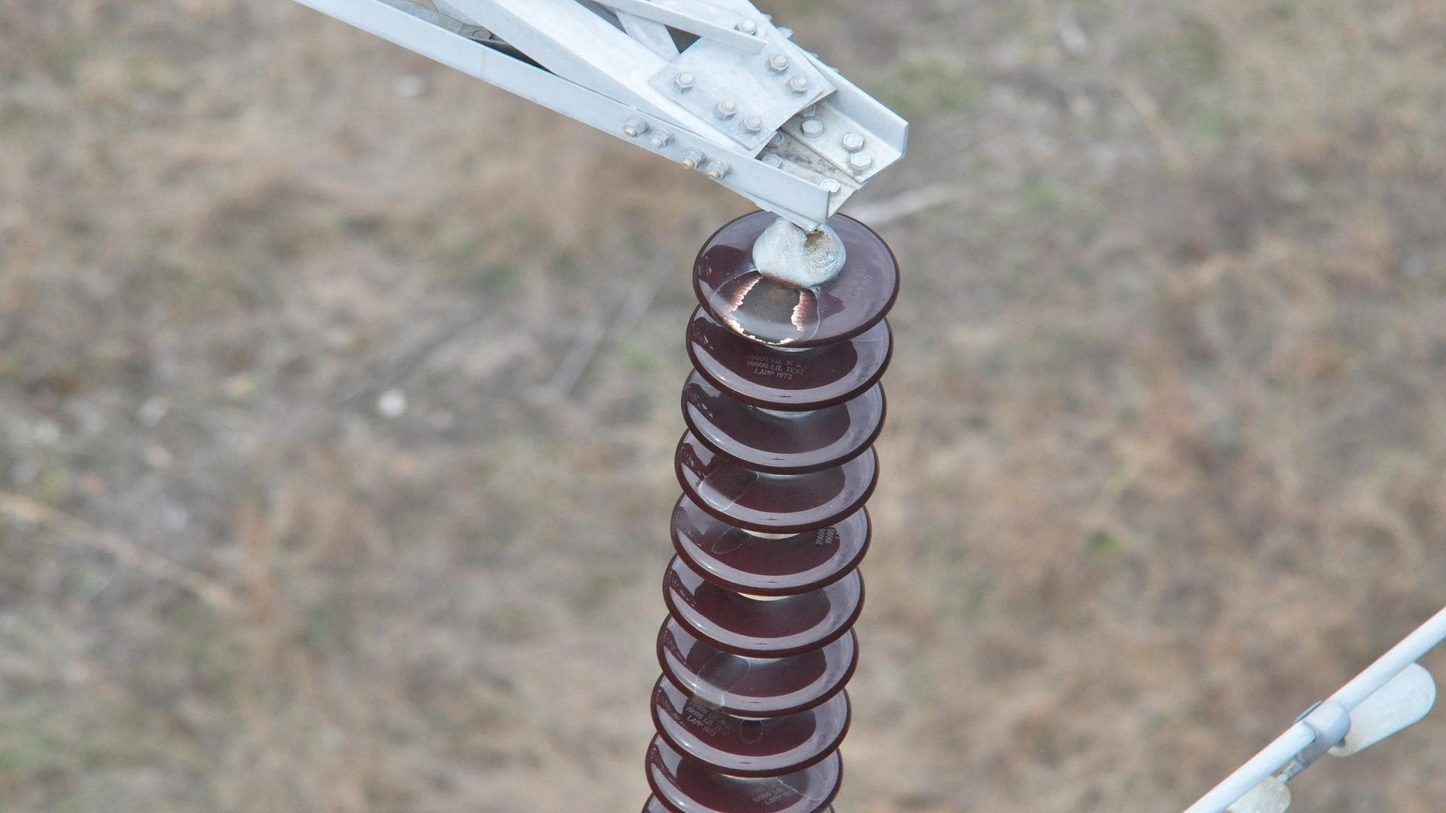insulator: (637, 203, 907, 813)
